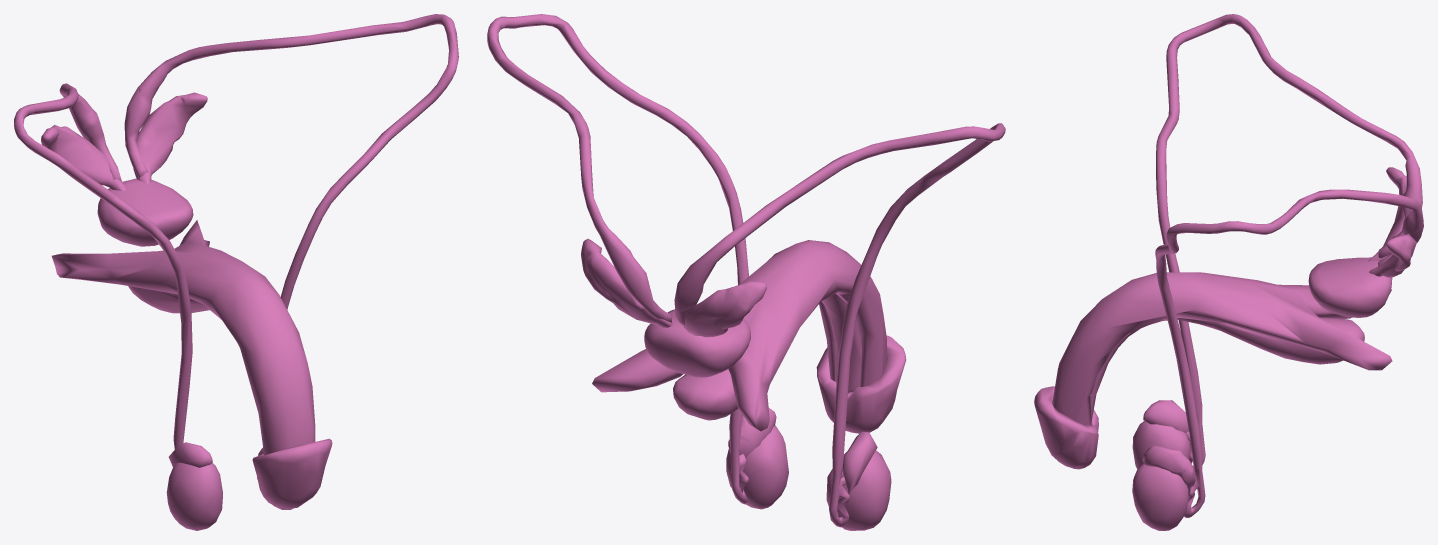
Rendered from reproductive.glb.
The picture shows the model from 3 angles, left to right: view 1: azimuth 30°, elevation 25°; view 2: azimuth 150°, elevation 25°; view 3: azimuth 270°, elevation 25°; orthographic projection. The views are drawn at different scales.
Visible parts, largest first — view 1: FJ3132, FJ3135, FJ3140, FJ3139, FJ3134, FJ3142, FJ3137, FJ3143, FJ3133, FJ3141; view 2: FJ3132, FJ3140, FJ3135, FJ3139, FJ3133, FJ3134, FJ3138, FJ3143, FJ3142, FJ3137, FJ3141, FJ3136; view 3: FJ3132, FJ3140, FJ3135, FJ3139, FJ3134, FJ3138, FJ3133, FJ3142, FJ3136, FJ3137, FJ3141, FJ3143.
Part boxes in pixels (left/top/right/bottom): FJ3132: left=51, top=220, right=315, bottom=455; FJ3135: left=124, top=14, right=458, bottom=309; FJ3140: left=14, top=83, right=192, bottom=449; FJ3139: left=97, top=178, right=193, bottom=246; FJ3134: left=252, top=438, right=332, bottom=509; FJ3142: left=166, top=462, right=222, bottom=530; FJ3137: left=133, top=92, right=207, bottom=183; FJ3143: left=41, top=125, right=125, bottom=190; FJ3133: left=128, top=286, right=209, bottom=313; FJ3141: left=168, top=442, right=212, bottom=467; FJ3132: left=592, top=240, right=886, bottom=431; FJ3140: left=674, top=123, right=1005, bottom=527; FJ3135: left=487, top=14, right=748, bottom=504; FJ3139: left=644, top=309, right=750, bottom=377; FJ3133: left=673, top=293, right=862, bottom=420; FJ3134: left=816, top=335, right=906, bottom=433; FJ3138: left=726, top=425, right=788, bottom=509; FJ3143: left=684, top=281, right=766, bottom=337; FJ3142: left=826, top=450, right=891, bottom=530; FJ3137: left=581, top=238, right=674, bottom=327; FJ3141: left=842, top=431, right=877, bottom=493; FJ3136: left=728, top=408, right=776, bottom=457; FJ3132: left=1052, top=272, right=1392, bottom=425; FJ3140: left=1156, top=14, right=1422, bottom=466; FJ3135: left=1155, top=189, right=1423, bottom=517; FJ3139: left=1308, top=257, right=1392, bottom=317; FJ3134: left=1034, top=386, right=1098, bottom=469; FJ3138: left=1132, top=463, right=1188, bottom=530; FJ3133: left=1090, top=317, right=1364, bottom=423; FJ3142: left=1132, top=421, right=1190, bottom=469; FJ3136: left=1142, top=445, right=1195, bottom=499; FJ3137: left=1369, top=233, right=1416, bottom=277; FJ3141: left=1143, top=400, right=1188, bottom=433; FJ3143: left=1368, top=167, right=1406, bottom=261.
Bounding box in the file's own units: 0.1867 × 0.1711 × 0.1483.
